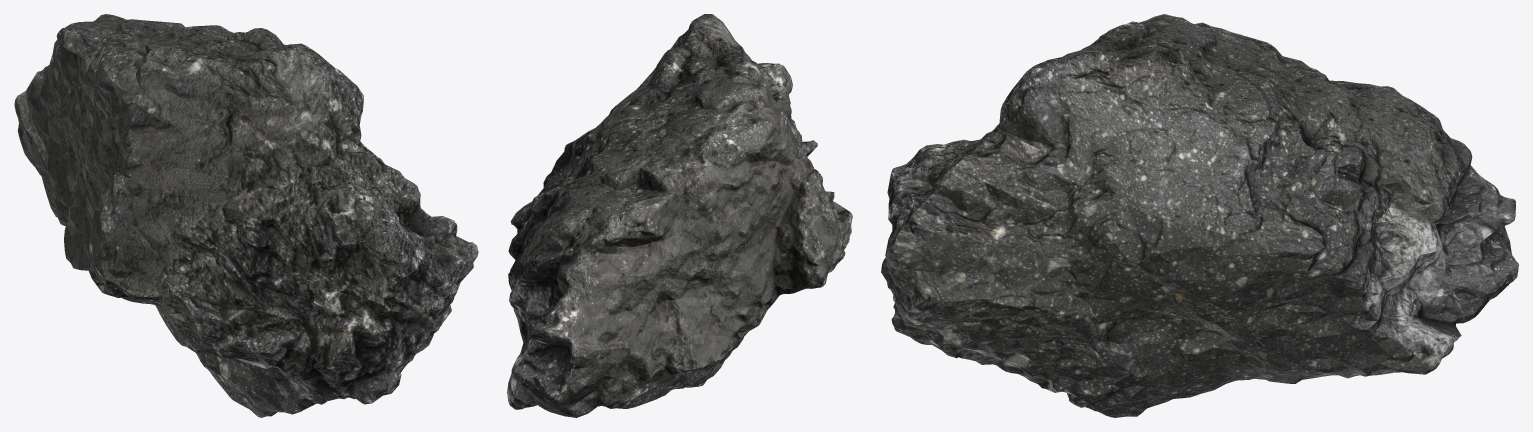
File: sample-79115.glb
3 views of the same model, side by side, from view 1: azimuth 30°, elevation 25°; view 2: azimuth 150°, elevation 25°; view 3: azimuth 270°, elevation 25° (orthographic). The views are drawn at different scales.
Size of the model in its own units: 0.0439 by 0.0583 by 0.0892.
Materials: 1 (1 with a texture image).
